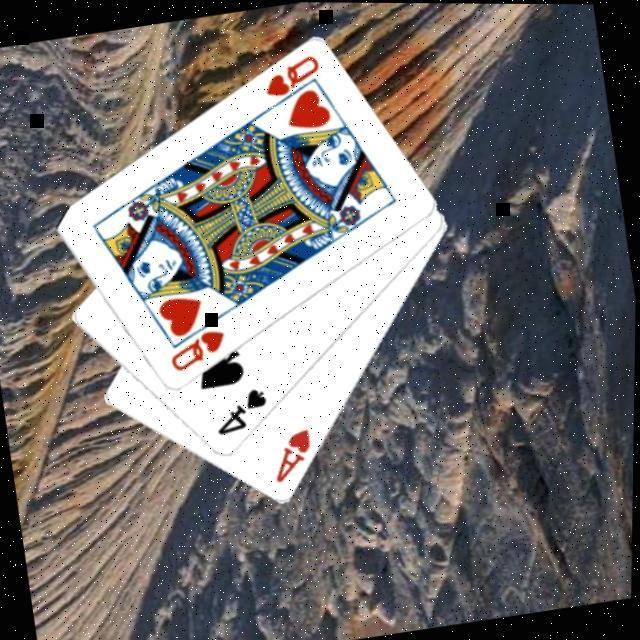4S: (209, 385, 275, 440)
AH: (266, 426, 321, 489)
QH: (256, 51, 329, 116), (163, 326, 233, 377)
